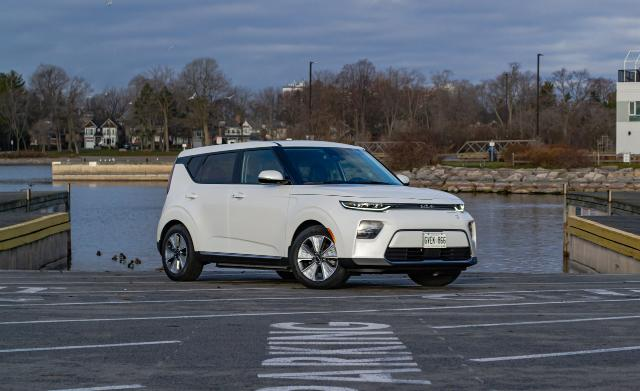kia: (156, 140, 478, 290)
